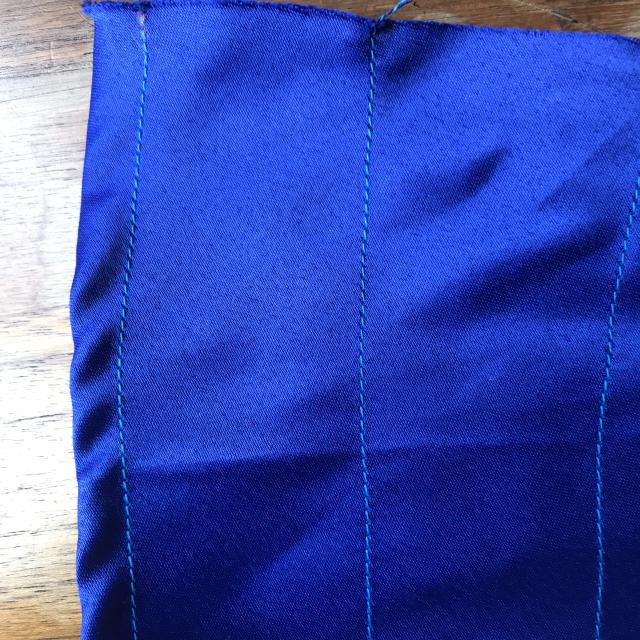good: (348, 367, 393, 523), (349, 116, 386, 305), (112, 483, 150, 606)
